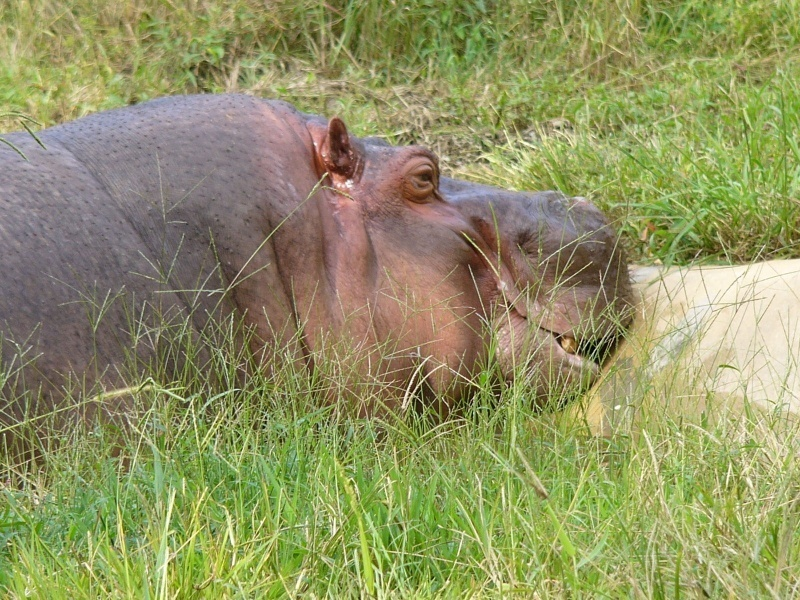hipopotamo: (1, 70, 650, 432)
